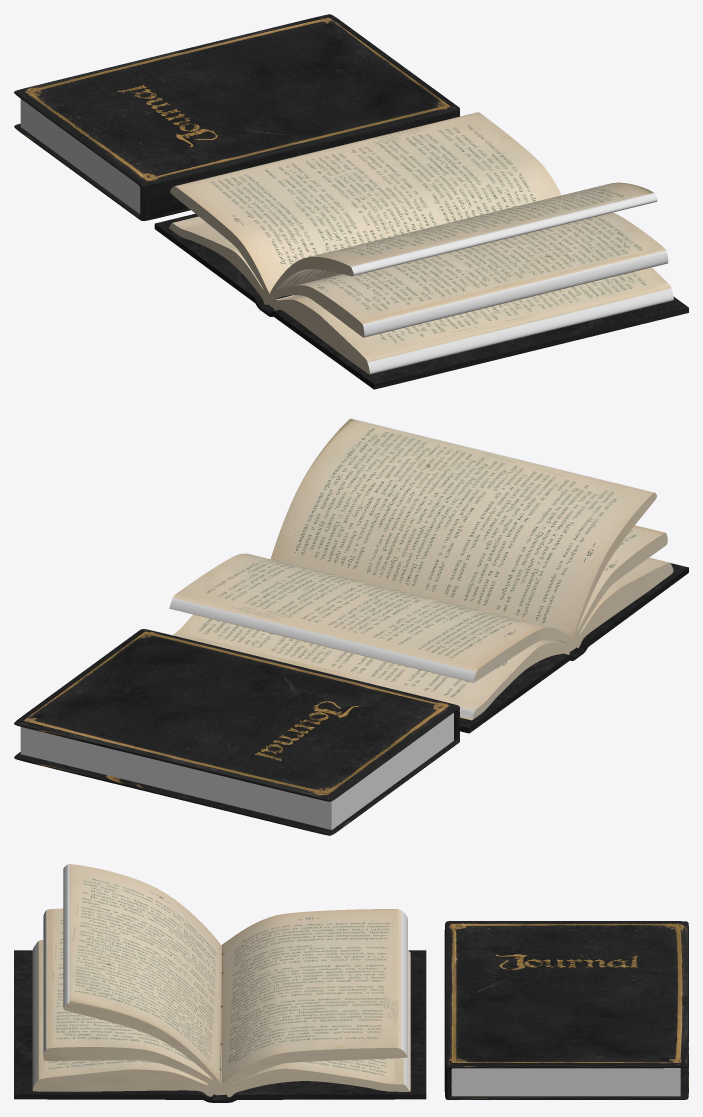
The model's file is book_folded_and_unfolded.glb.
3 views of the same model, one above another, from view 1: azimuth 30°, elevation 25°; view 2: azimuth 150°, elevation 25°; view 3: azimuth 270°, elevation 25° (orthographic). The views are drawn at different scales.
Bounding box in the file's own units: 0.2361 × 0.0733 × 0.4603.
Materials: 3 (2 with a texture image).
